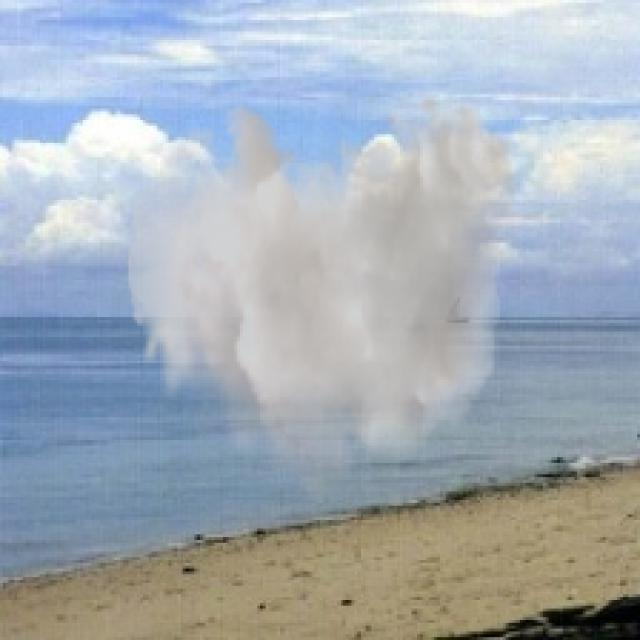smoke: (126, 89, 517, 512)
